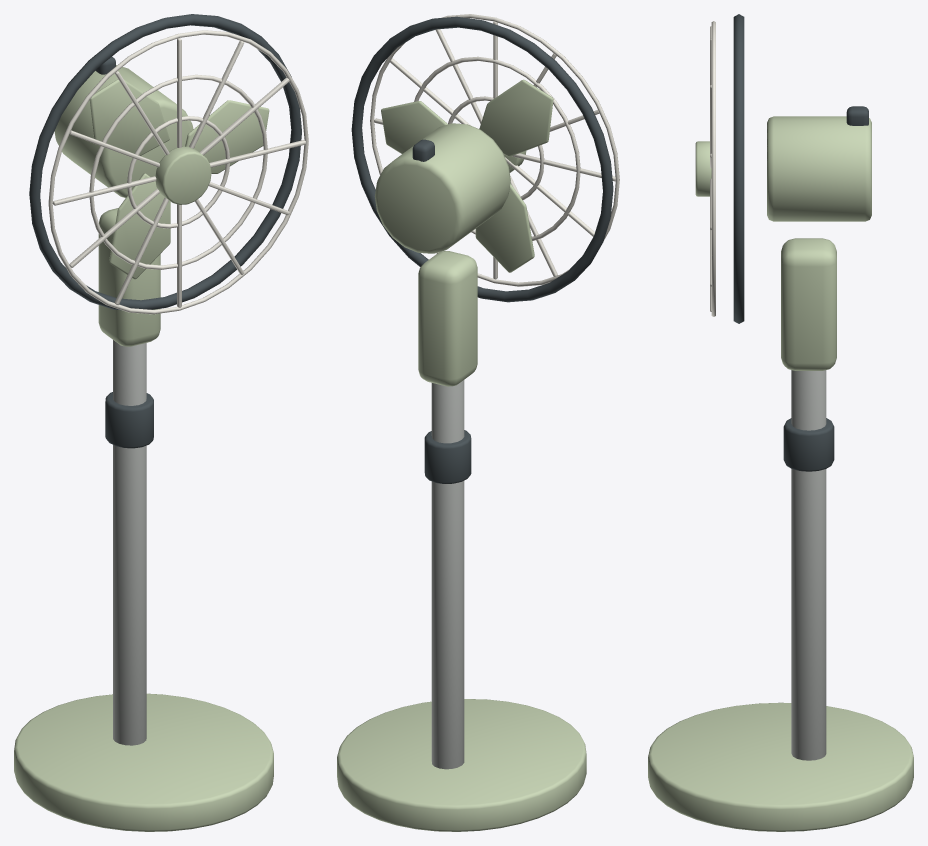
File: pedestal-fan.glb
3 renders of one model, left to right at view 1: azimuth 30°, elevation 25°; view 2: azimuth 150°, elevation 25°; view 3: azimuth 270°, elevation 25°, orthographic. The views are drawn at different scales.
Parts seen in each view (by area): view 1: pedestal-fan; view 2: pedestal-fan; view 3: pedestal-fan.
Boxes of the visible parts, box(x1,y1,x2,y2) form: pedestal-fan: box(14, 14, 308, 831); pedestal-fan: box(337, 14, 619, 831); pedestal-fan: box(648, 14, 913, 831).
Size of the model in its own units: 0.46 by 1.25 by 0.4.
